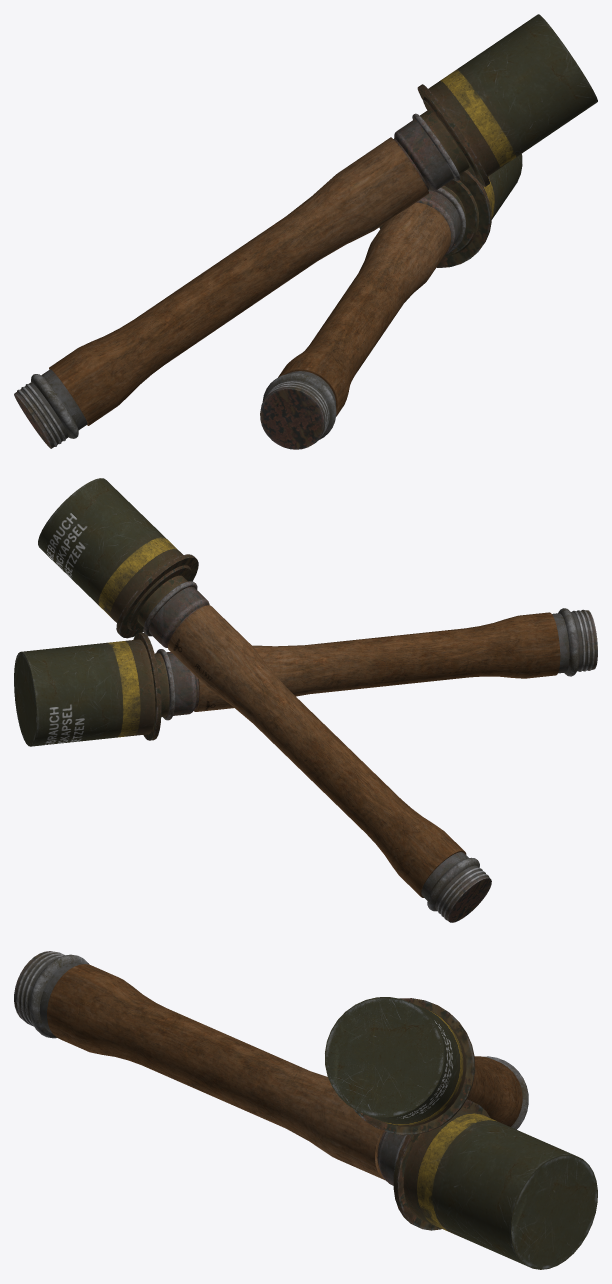
The model's file is granada_haste.glb.
3 views of the same model, one above another, from view 1: azimuth 30°, elevation 25°; view 2: azimuth 150°, elevation 25°; view 3: azimuth 270°, elevation 25° (orthographic). The views are drawn at different scales.
Visible parts, largest first — view 1: stielhandgranate24_Low_Bk_0, stielhandgranate24_Low.001_Bk_0; view 2: stielhandgranate24_Low_Bk_0, stielhandgranate24_Low.001_Bk_0; view 3: stielhandgranate24_Low.001_Bk_0, stielhandgranate24_Low_Bk_0.
Part boxes in pixels (x1,y1,x2,y2): stielhandgranate24_Low_Bk_0: [14, 14, 597, 448]; stielhandgranate24_Low.001_Bk_0: [260, 154, 522, 449]; stielhandgranate24_Low_Bk_0: [38, 478, 491, 922]; stielhandgranate24_Low.001_Bk_0: [14, 608, 597, 746]; stielhandgranate24_Low.001_Bk_0: [14, 951, 597, 1269]; stielhandgranate24_Low_Bk_0: [325, 997, 528, 1135].
Bounding box in the file's own units: 0.36 × 0.2269 × 0.3039.
Materials: 1 (1 with a texture image).
